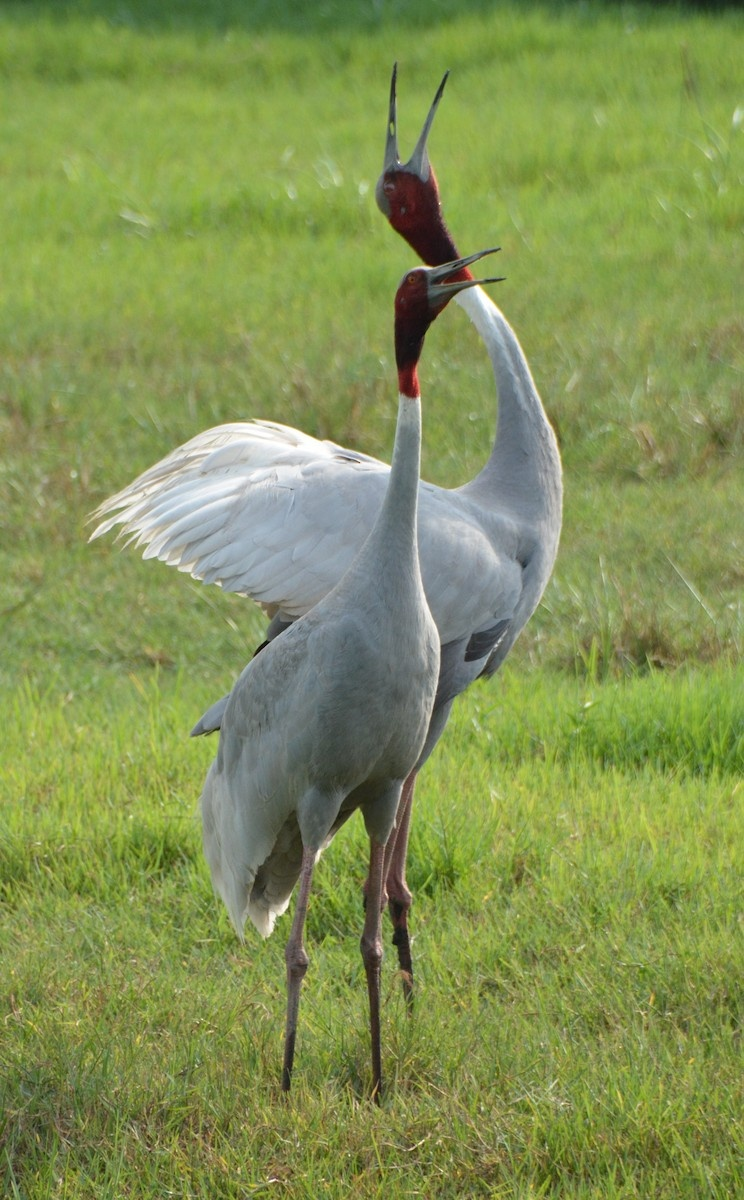crane: (185, 237, 512, 1114), (368, 57, 582, 416)
